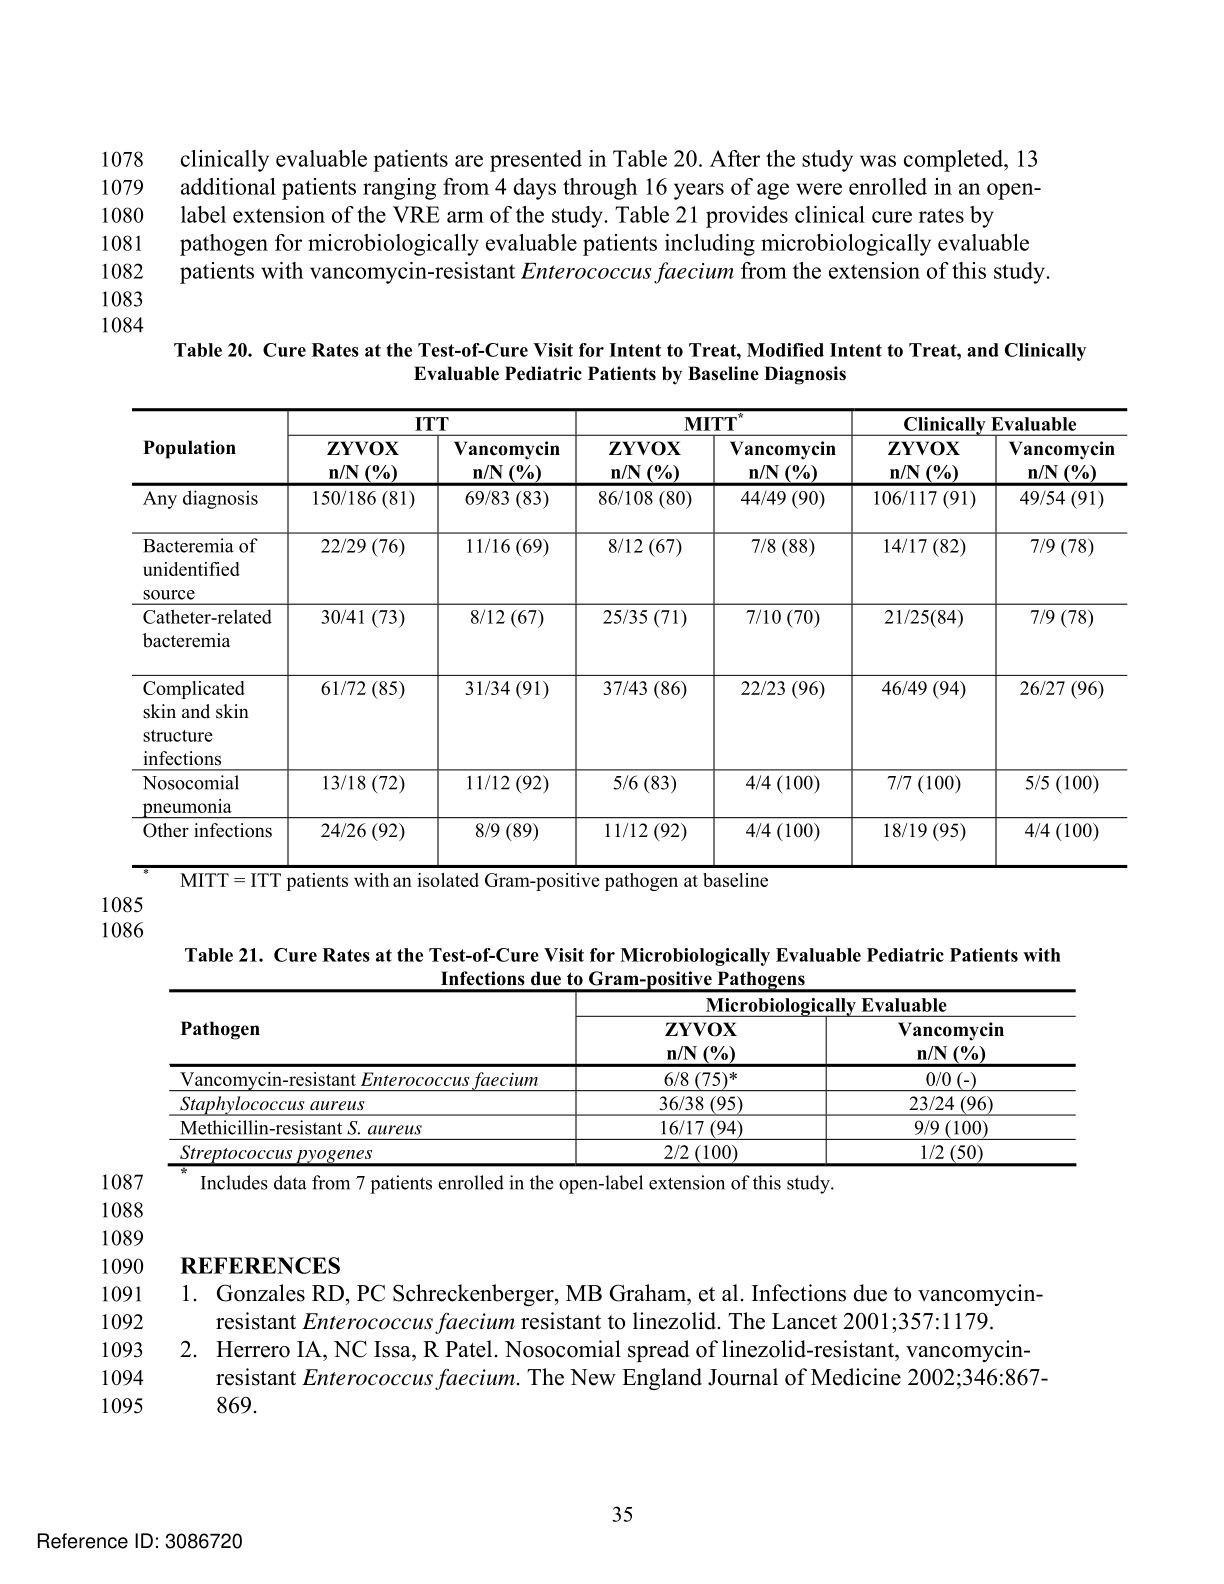partial_lined_merged_cells: (130, 408, 1128, 869), (167, 987, 1077, 1167)
